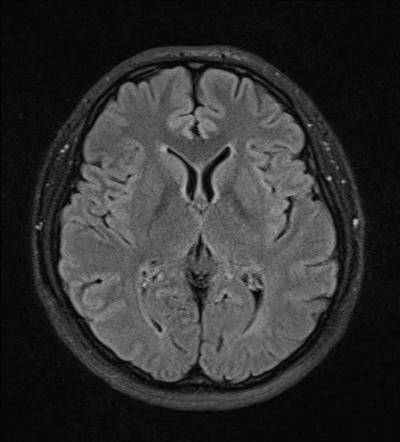Normal_Brain: (3, 1, 400, 442)
